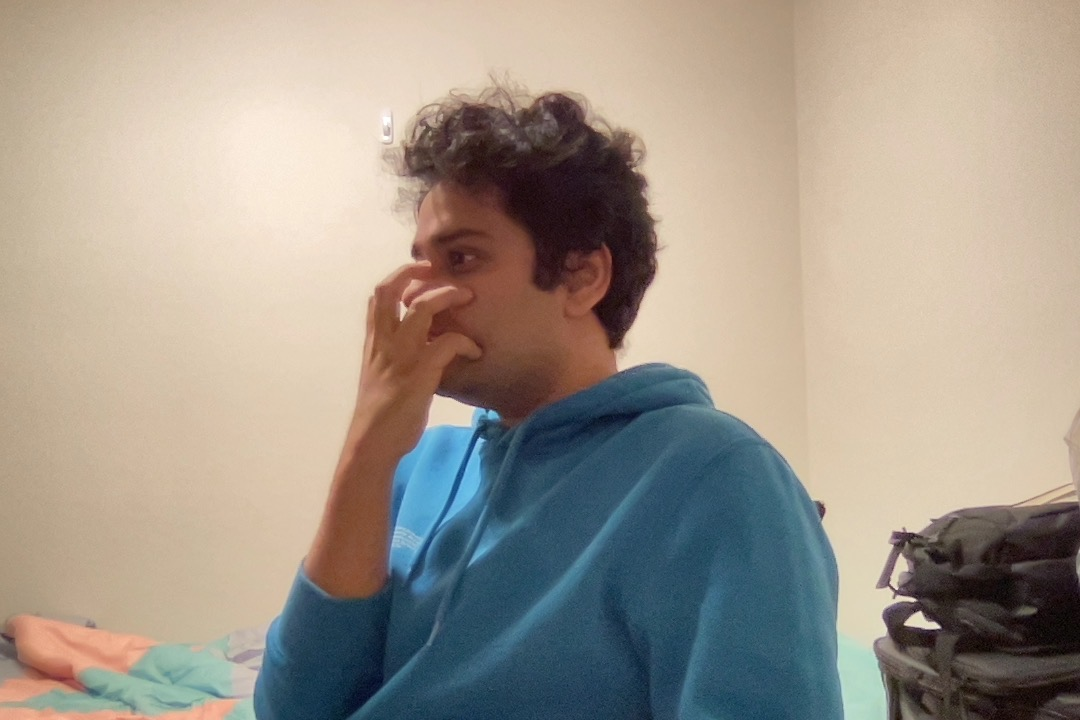Mad: (329, 253, 515, 453)
